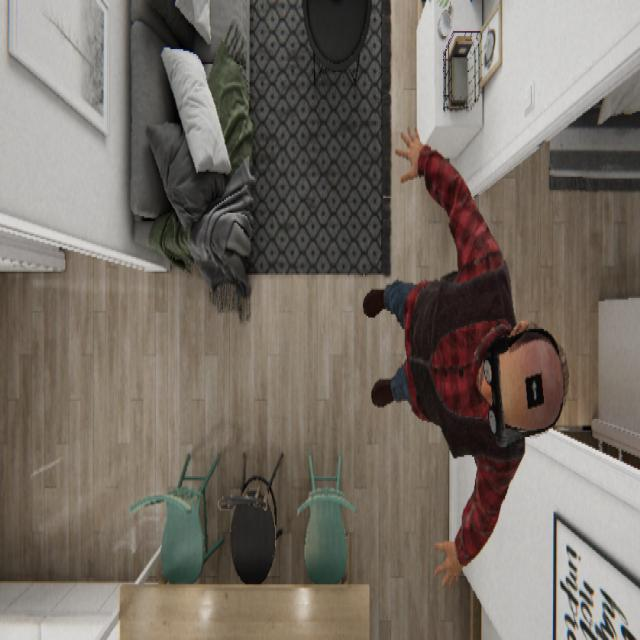Human: (361, 122, 569, 588)
UnityLogo: (524, 368, 544, 409)
